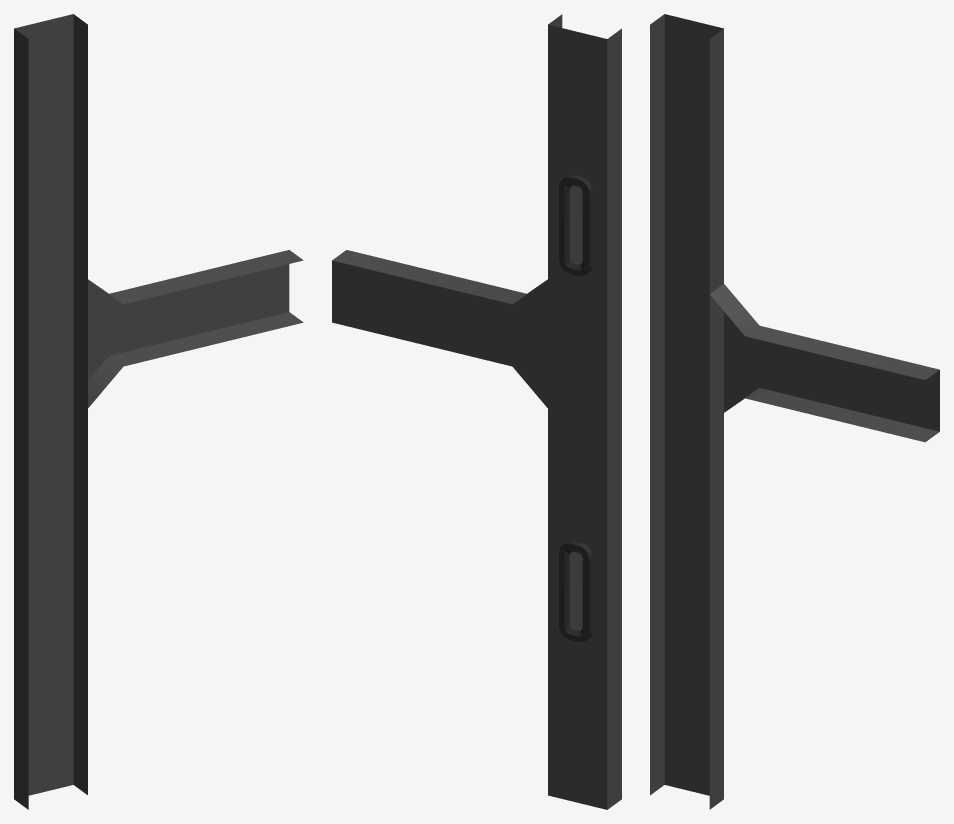
The model's file is SM_cable_left_03.fbx.
The picture shows the model from 3 angles, left to right: view 1: azimuth 30°, elevation 25°; view 2: azimuth 150°, elevation 25°; view 3: azimuth 330°, elevation 25°; orthographic projection.
Visible parts, largest first — view 1: SM_cable_left_03; view 2: SM_cable_left_03; view 3: SM_cable_left_03.
Part boxes in pixels (x1=…): SM_cable_left_03: x1=14, y1=14, x2=303, y2=809; SM_cable_left_03: x1=332, y1=14, x2=621, y2=809; SM_cable_left_03: x1=650, y1=14, x2=939, y2=809.
Bounding box in the file's own units: 112 × 300 × 12.76.
Materials: 2 (2 with a texture image).
